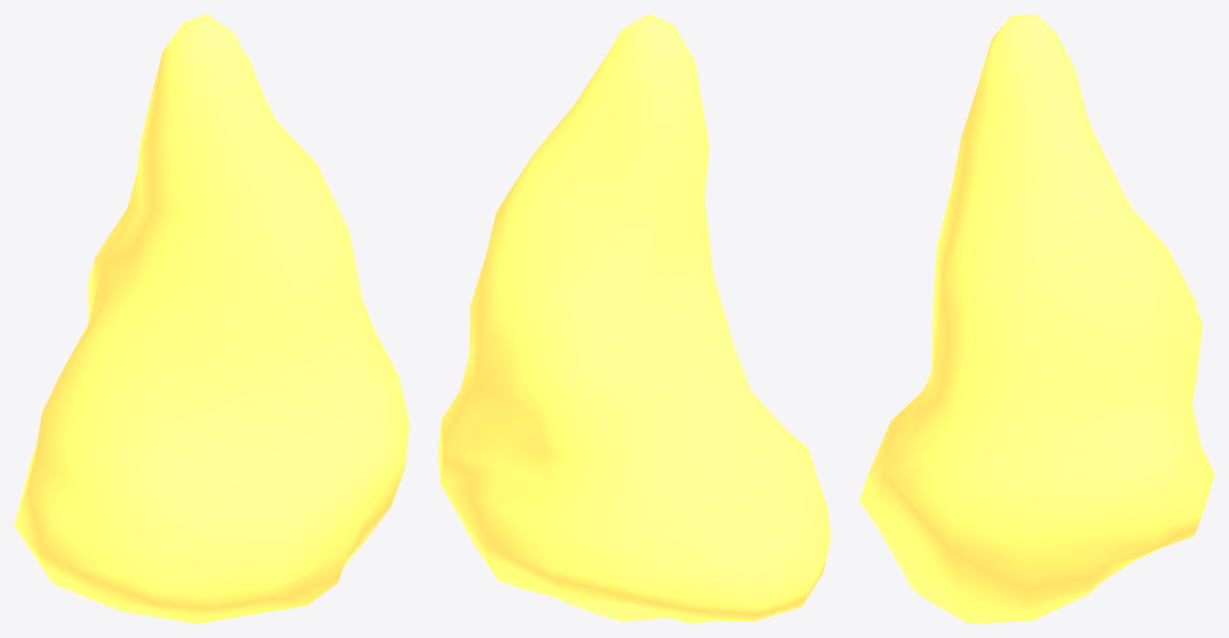
The model's file is Flame_01.gltf.
The picture shows the model from 3 angles, left to right: view 1: azimuth 30°, elevation 25°; view 2: azimuth 150°, elevation 25°; view 3: azimuth 270°, elevation 25°; orthographic projection. The views are drawn at different scales.
Visible parts, largest first — view 1: Flame_01; view 2: Flame_01; view 3: Flame_01.
Boxes of the visible parts, x1=… form: Flame_01: x1=14, y1=14, x2=409, y2=623; Flame_01: x1=438, y1=14, x2=830, y2=623; Flame_01: x1=859, y1=14, x2=1214, y2=623.
Size of the model in its own units: 0.1827 by 0.3 by 0.1679.
